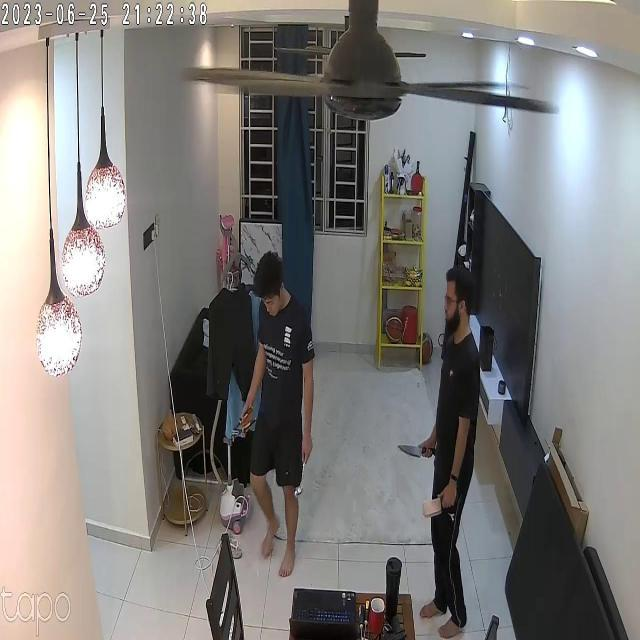Knife: (417, 492, 468, 526), (393, 433, 434, 465)
